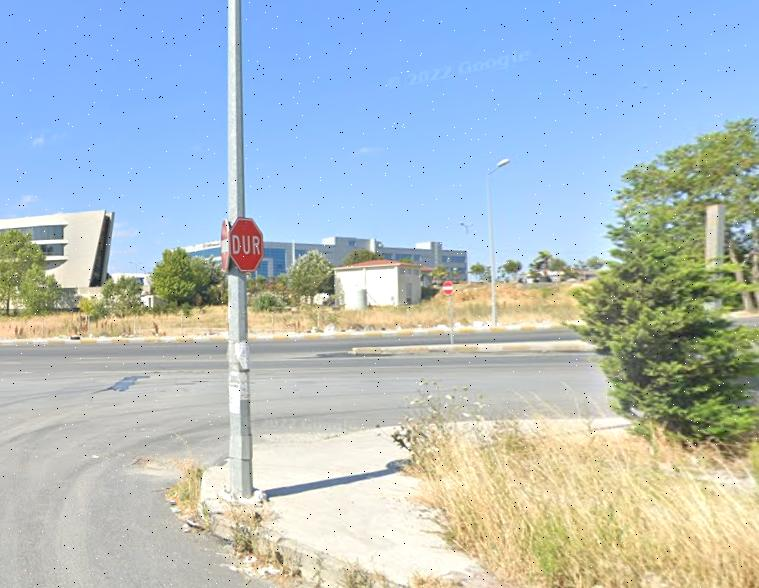stop: (230, 218, 265, 270)
